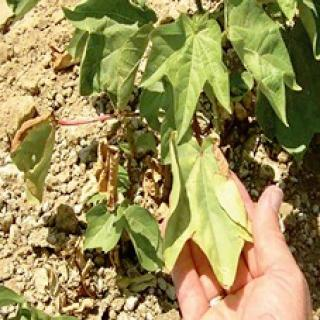wilt: (161, 122, 249, 236), (85, 130, 132, 198), (15, 114, 57, 182)
